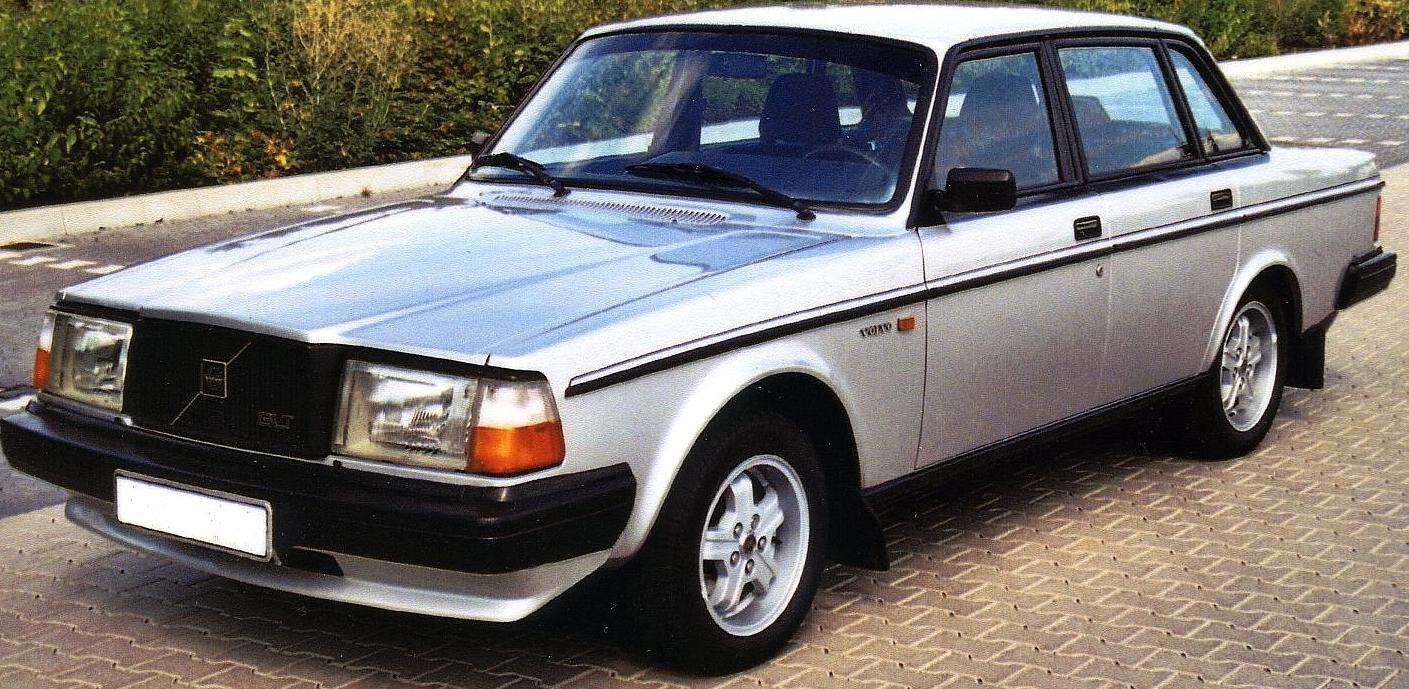front_view: (13, 267, 641, 623)
headlight: (321, 330, 586, 472)
side_glass: (946, 29, 1244, 232)
